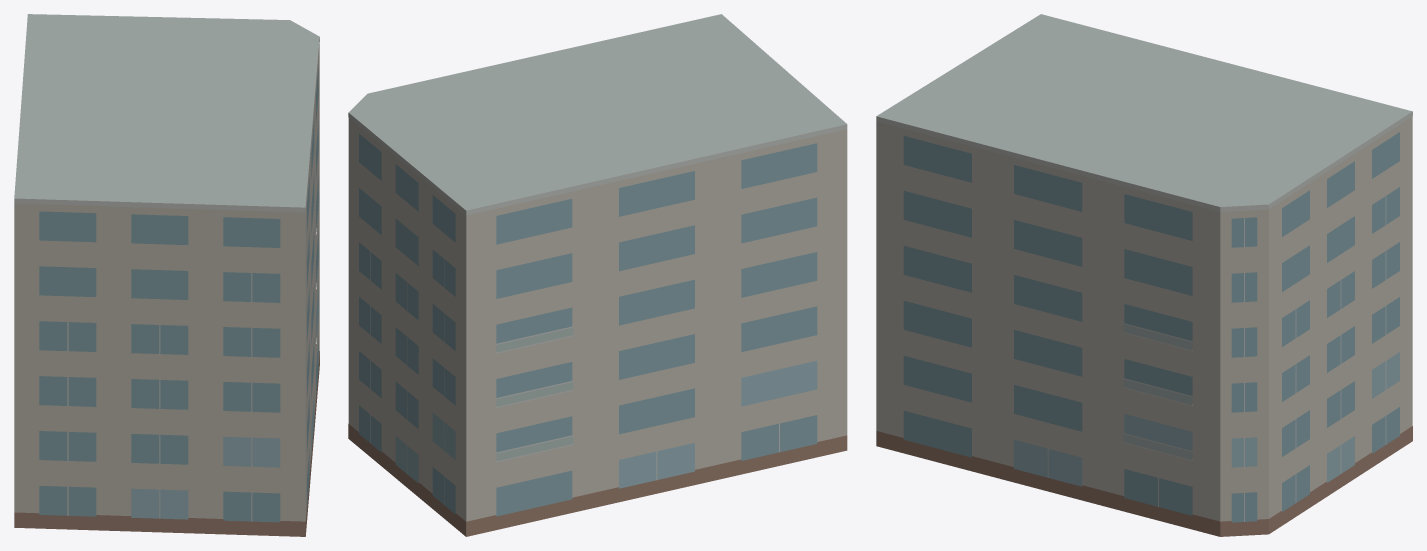
The model's file is survey-upis-32880991.glb.
3 renders of one model, left to right at view 1: azimuth 30°, elevation 25°; view 2: azimuth 150°, elevation 25°; view 3: azimuth 270°, elevation 25°, orthographic.
Visible parts, largest first — view 1: survey-upis-32880991.tmp; view 2: survey-upis-32880991.tmp; view 3: survey-upis-32880991.tmp.
Part boxes in pixels (bbox=[...]): survey-upis-32880991.tmp: bbox=[14, 14, 319, 536]; survey-upis-32880991.tmp: bbox=[348, 14, 847, 536]; survey-upis-32880991.tmp: bbox=[876, 14, 1412, 536].
Bounding box in the file's own units: 20.47 × 16.3 × 24.04.
